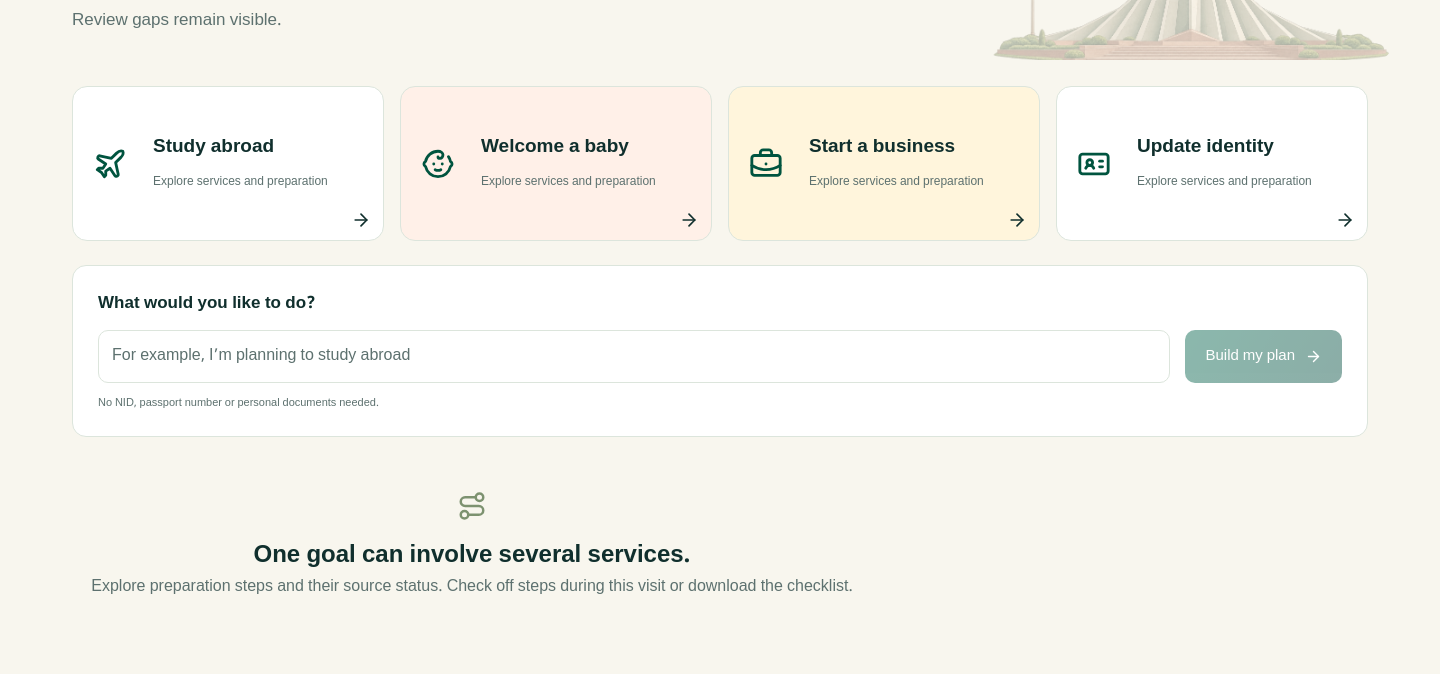
it: connected public flows › shows journey coverage gaps without invented checklist items
The width and height of the screenshot is (1440, 674).
What coordinates should you click on to do the following:
click the button "Welcome a baby"
I would click on:
 (438, 164)
Its box is top-left (400, 86), bottom-right (712, 241).
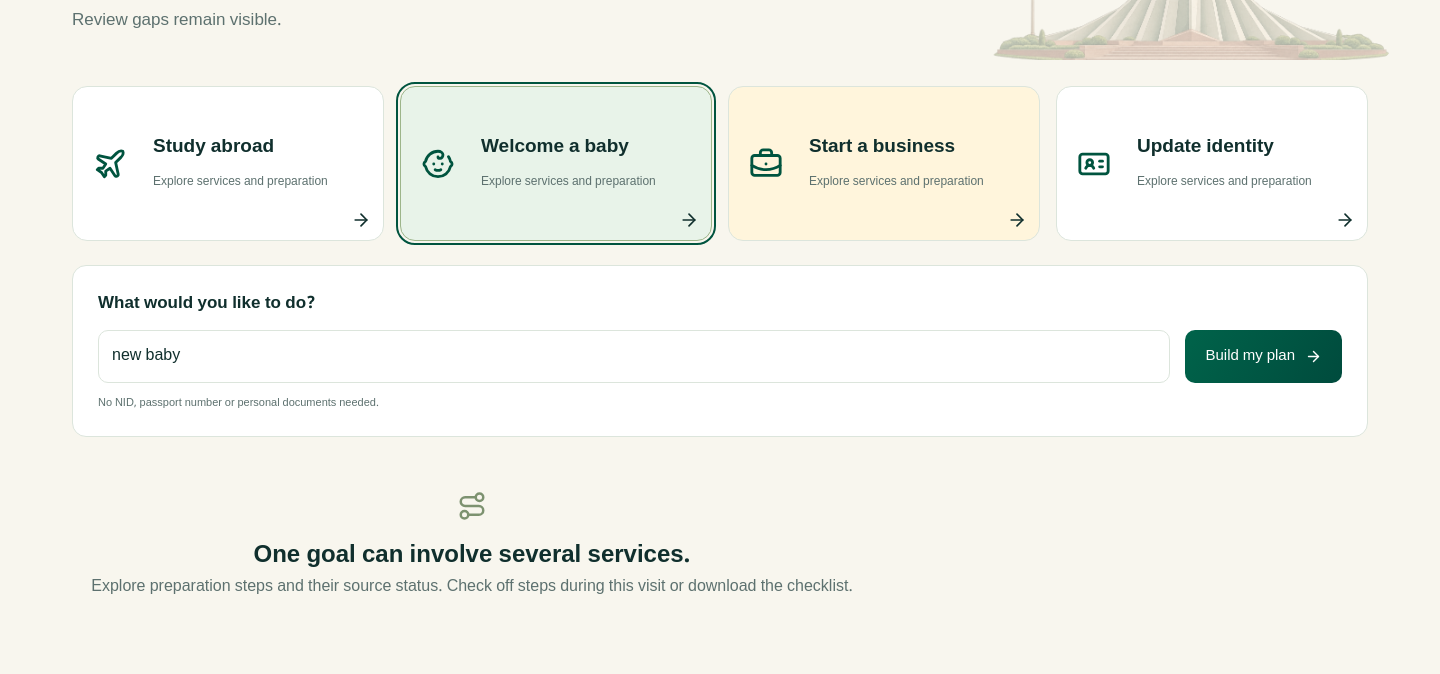
What coordinates should you click on to do the following:
click the button "Build my plan"
I would click on:
 (1264, 356)
Its box is top-left (1186, 330), bottom-right (1342, 383).
(page scrolled)
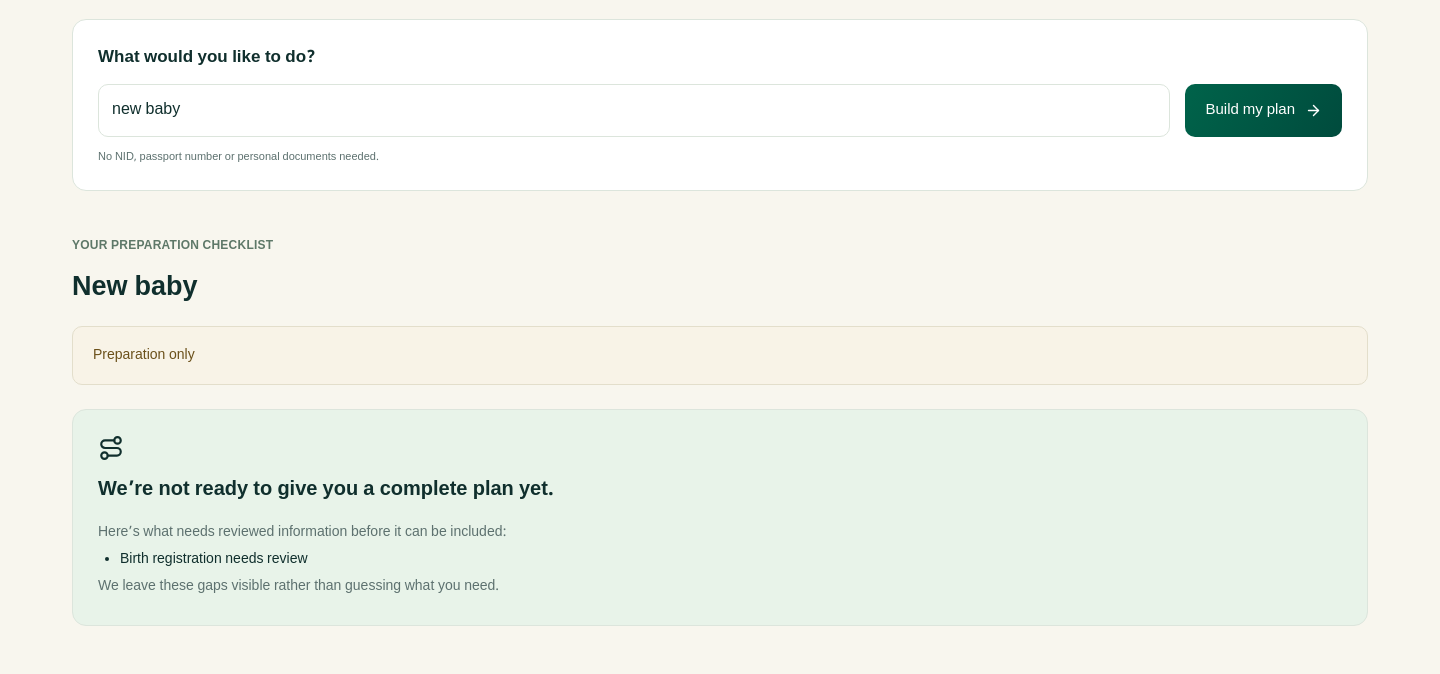
Expected: the list item "Birth registration needs review" is shown, top-left (120, 550), bottom-right (308, 569)
